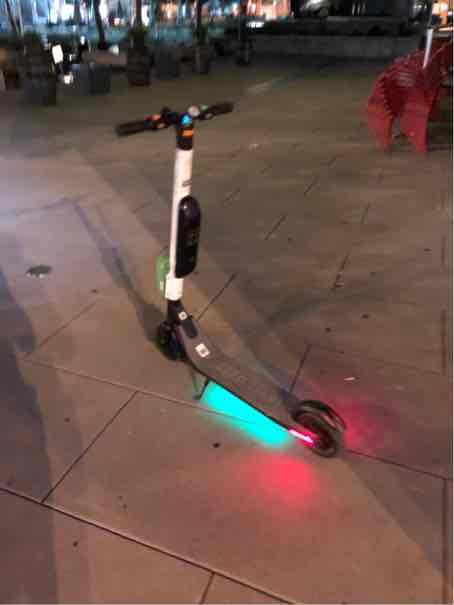scooter: (108, 88, 354, 459)
